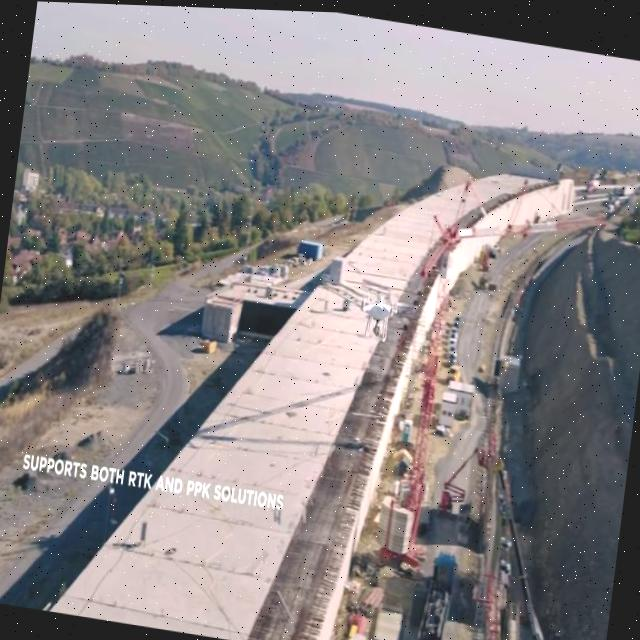drone: (354, 285, 409, 341)
